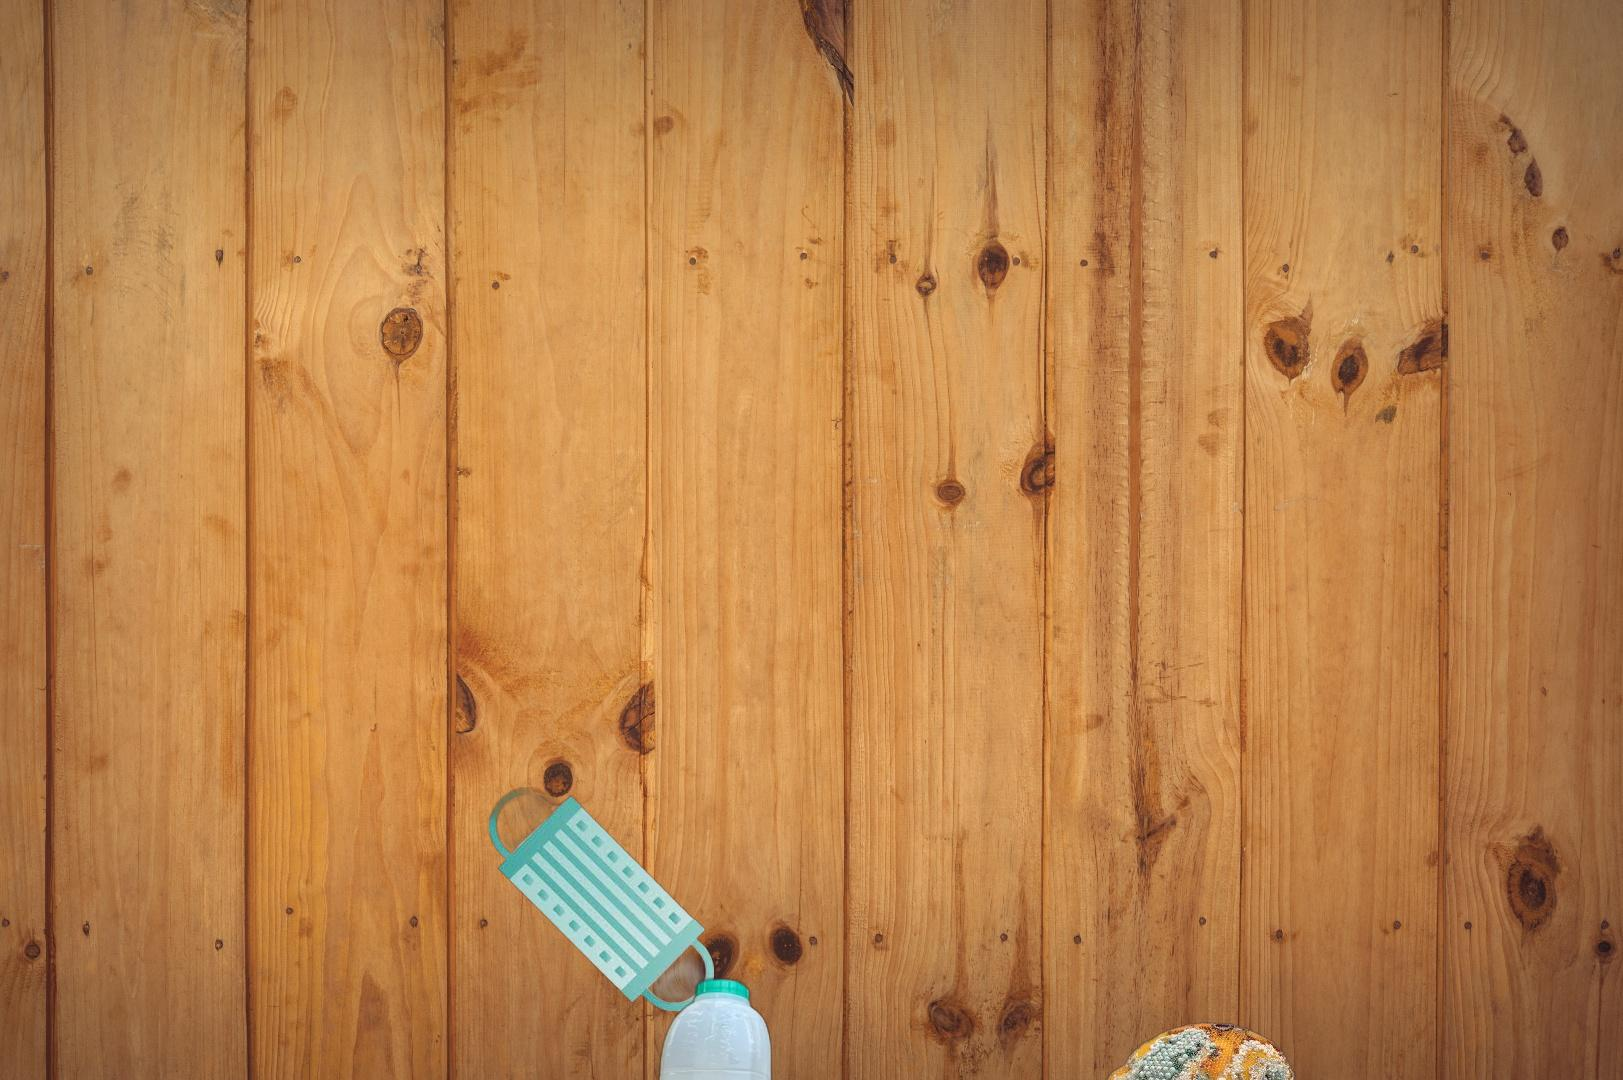biological: (1102, 1019, 1299, 1080)
plastic-bottles: (649, 973, 776, 1080)
trash: (489, 787, 715, 1011)
